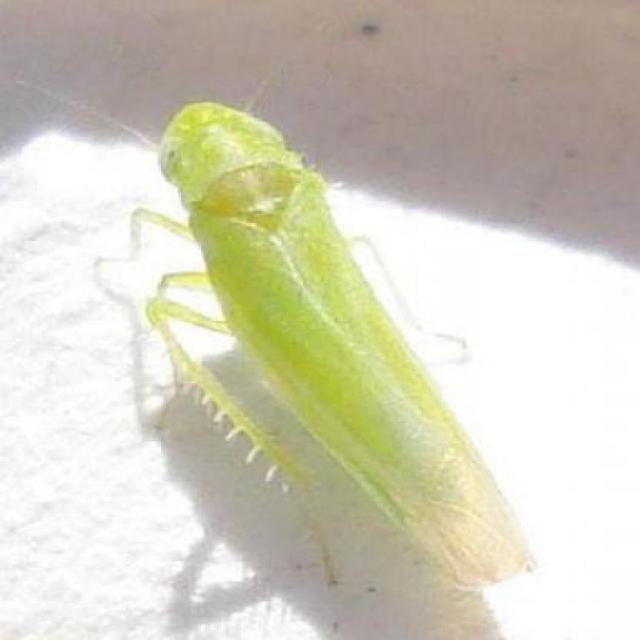green-leafhopper: (148, 100, 523, 585)
